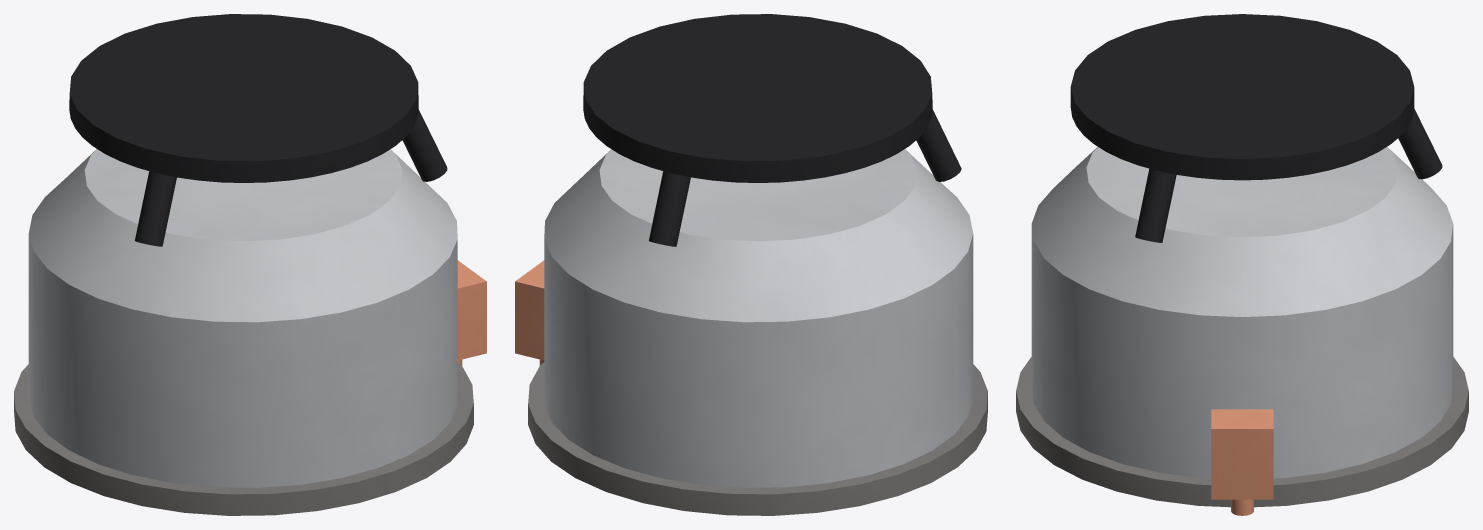
Rendered from prop03_ion_engine.glb.
The picture shows the model from 3 angles, left to right: view 1: azimuth 30°, elevation 25°; view 2: azimuth 150°, elevation 25°; view 3: azimuth 270°, elevation 25°; orthographic projection.
Parts seen in each view (by area): view 1: discharge_chamber, gimbal, mask_ring, neutralizer; view 2: discharge_chamber, gimbal, mask_ring, neutralizer; view 3: discharge_chamber, gimbal, mask_ring, neutralizer.
Part boxes in pixels (<box>): discharge_chamber: <box>28,149,457,487</box>; gimbal: <box>69,14,447,246</box>; mask_ring: <box>14,362,473,515</box>; neutralizer: <box>457,260,486,365</box>; discharge_chamber: <box>544,149,973,487</box>; gimbal: <box>583,14,961,246</box>; mask_ring: <box>528,362,987,515</box>; neutralizer: <box>515,260,544,365</box>; discharge_chamber: <box>1031,147,1453,478</box>; gimbal: <box>1070,14,1442,242</box>; mask_ring: <box>1016,357,1468,507</box>; neutralizer: <box>1211,409,1273,515</box>.
Bounding box in the file's own units: 0.62 × 0.46 × 0.58.
5 materials, 3 textured.
